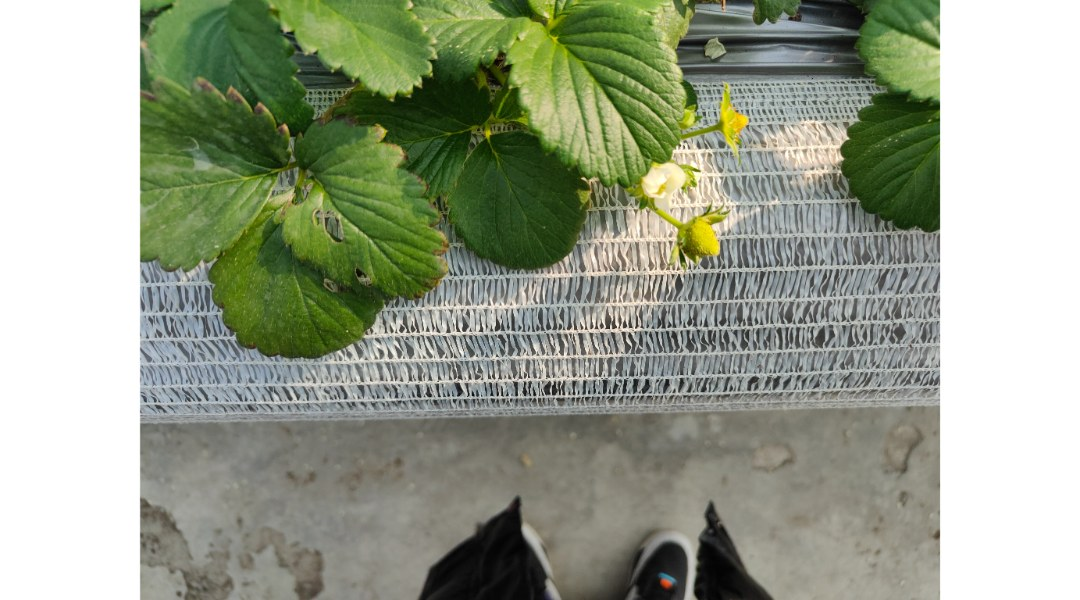berry: (703, 83, 764, 162), (667, 202, 736, 265)
flower: (628, 156, 691, 200)
strain: (650, 206, 684, 225), (681, 126, 717, 141)
